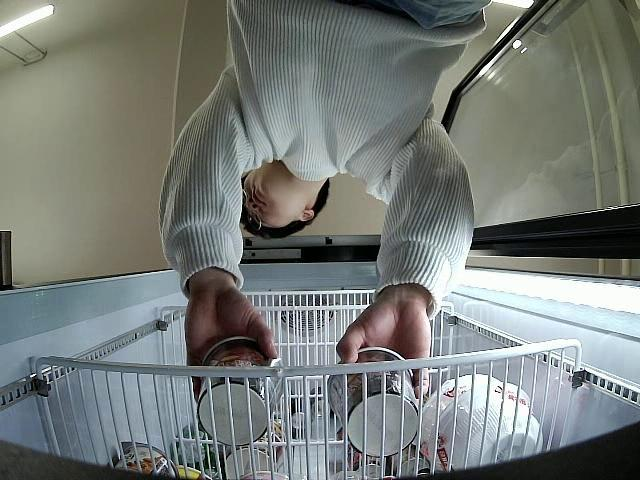08_buldak_S: (324, 346, 418, 458), (195, 335, 278, 450)
